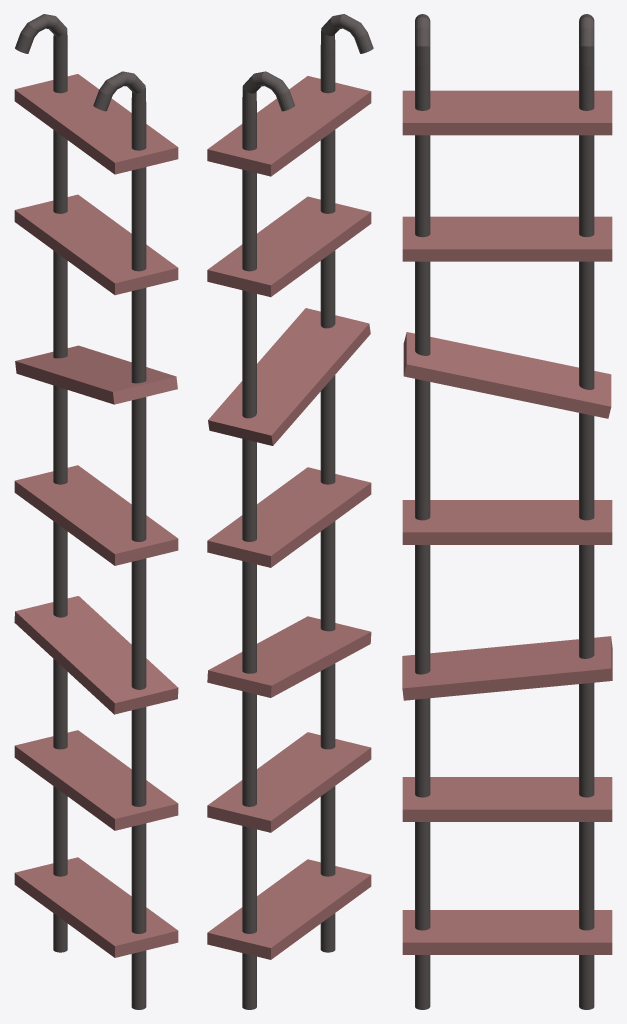
File: Escalera.fbx
3 renders of one model, left to right at view 1: azimuth 30°, elevation 25°; view 2: azimuth 150°, elevation 25°; view 3: azimuth 270°, elevation 25°, orthographic. The views are drawn at different scales.
Parts seen in each view (by area): view 1: pCylinder4; view 2: pCylinder4; view 3: pCylinder4.
Part boxes in pixels (<box>): pCylinder4: <box>14,14,178,1009</box>; pCylinder4: <box>207,14,373,1009</box>; pCylinder4: <box>402,14,612,1009</box>.
Bounding box in the file's own units: 1.17 × 14.11 × 2.74.
